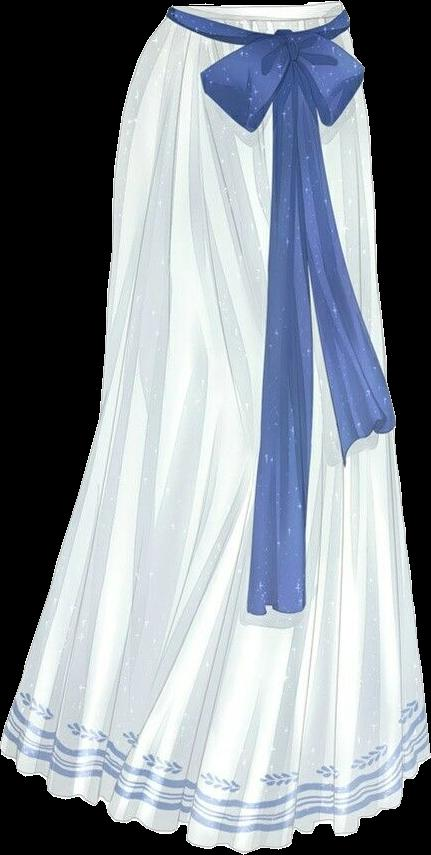Hemline: (0, 739, 430, 854)
Waistline: (170, 0, 345, 26)
